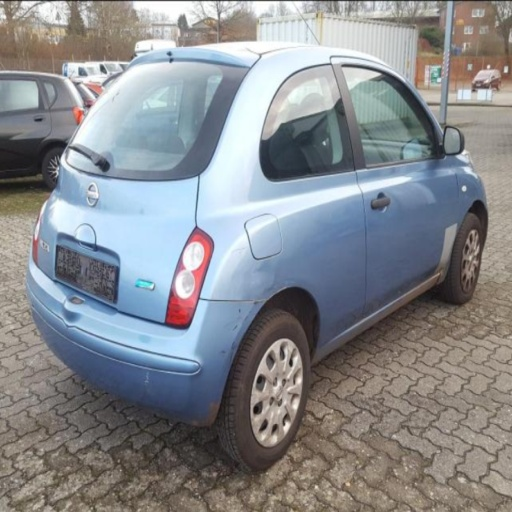dent: (255, 262, 275, 291)
rust: (190, 401, 221, 427)
scratch: (268, 286, 290, 300), (229, 340, 237, 365), (233, 247, 246, 253), (232, 324, 239, 331), (220, 350, 226, 354), (244, 315, 248, 321), (239, 309, 241, 314)
